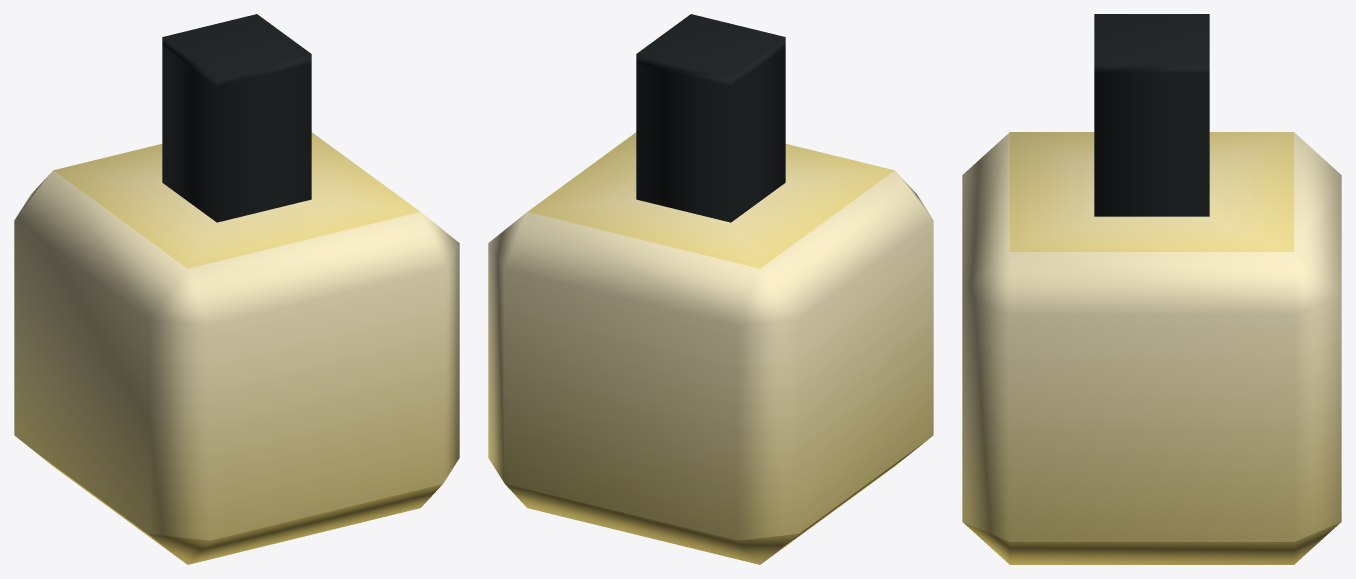
The model's file is candle_small_3.fbx.
3 renders of one model, left to right at view 1: azimuth 30°, elevation 25°; view 2: azimuth 150°, elevation 25°; view 3: azimuth 270°, elevation 25°, orthographic. The views are drawn at different scales.
Visible parts, largest first — view 1: candle_small_3; view 2: candle_small_3; view 3: candle_small_3.
Boxes of the visible parts, x1,y1,x2,y2 form: candle_small_3: (14,14,459,564); candle_small_3: (488,14,933,564); candle_small_3: (962,14,1341,564).
Size of the model in its own units: 18.51 by 25.13 by 18.51.
